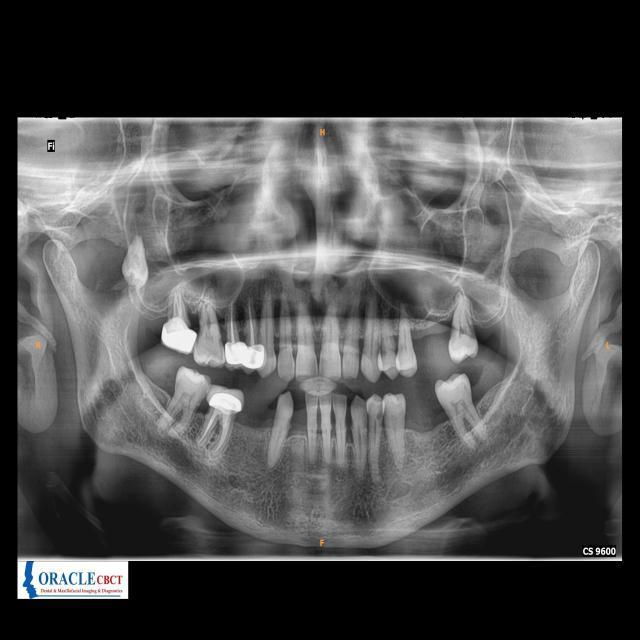kanal-tedavisi: (198, 409, 232, 459), (223, 293, 239, 341), (242, 299, 259, 343), (169, 283, 189, 319)
kaplama: (157, 320, 198, 353), (204, 382, 244, 413), (224, 337, 248, 366), (245, 340, 264, 370)
